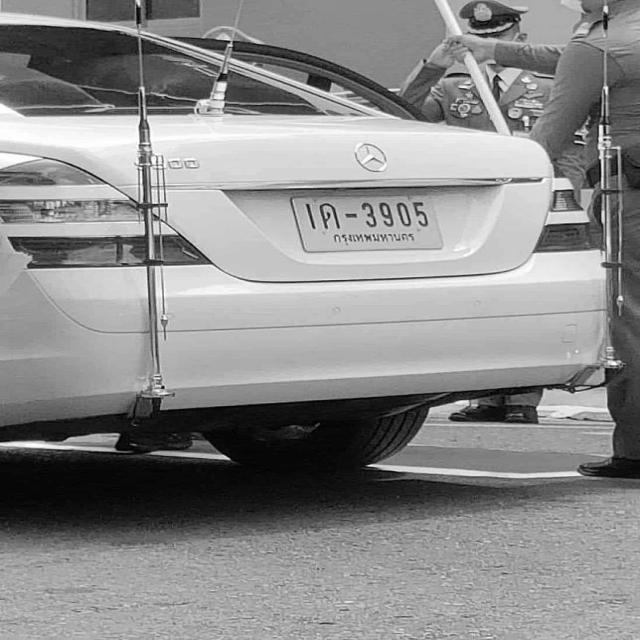license_plate: (291, 197, 463, 250), (291, 196, 442, 252), (291, 196, 442, 251)
